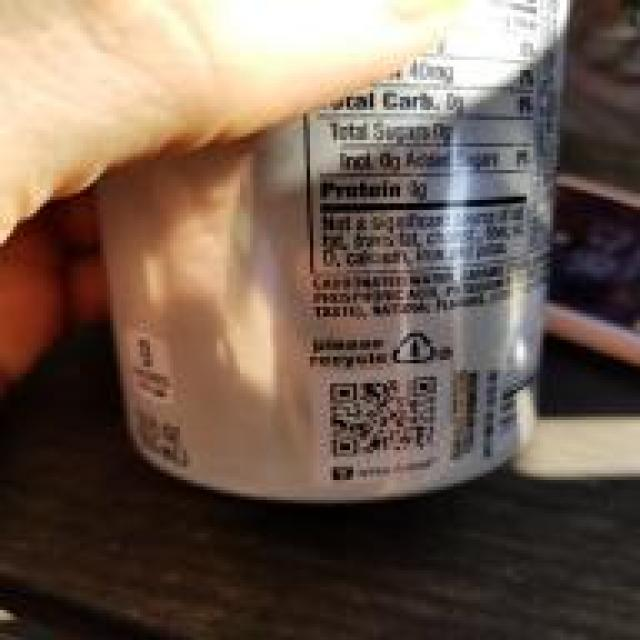QR_CODE: (320, 367, 443, 463)
